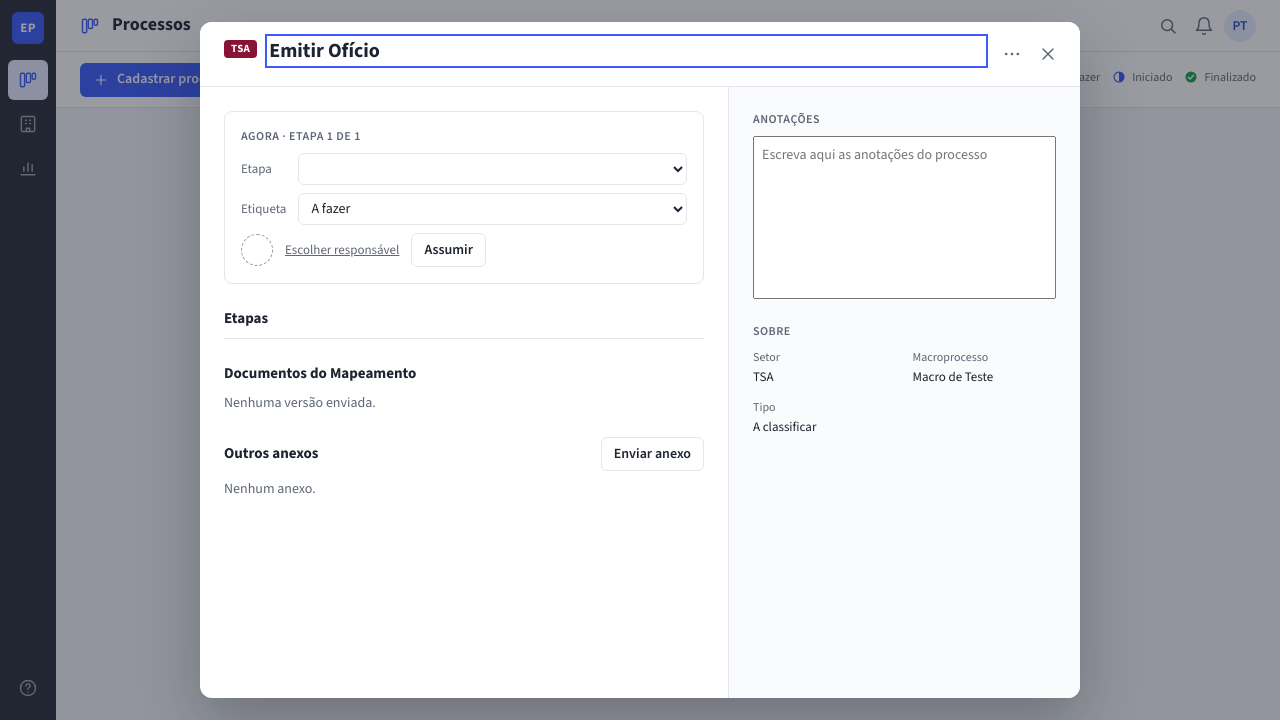
Scenario: sem eventos: "Nenhuma alteração registrada ainda."
The width and height of the screenshot is (1280, 720).
Click the button named "Ações do processo".
click(1012, 54)  # box [996,38,1028,70]
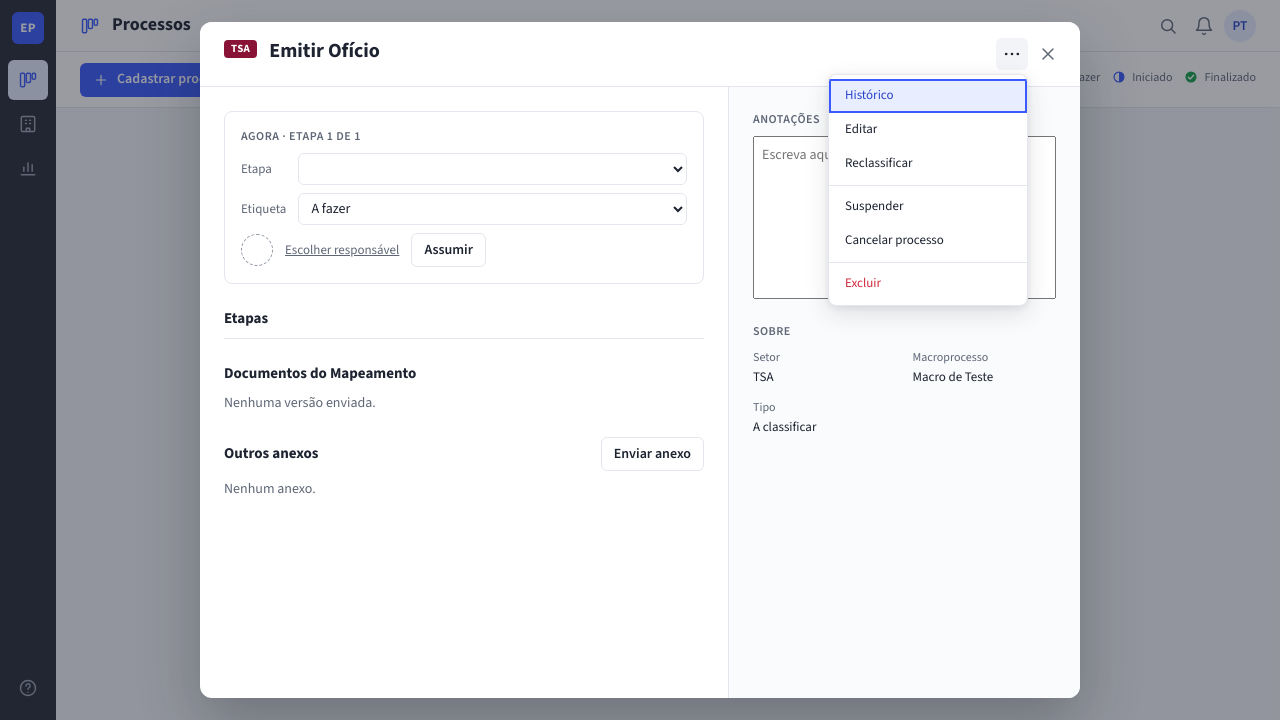
Click the menu item "Histórico".
click(928, 96)  # box [829,79,1027,113]
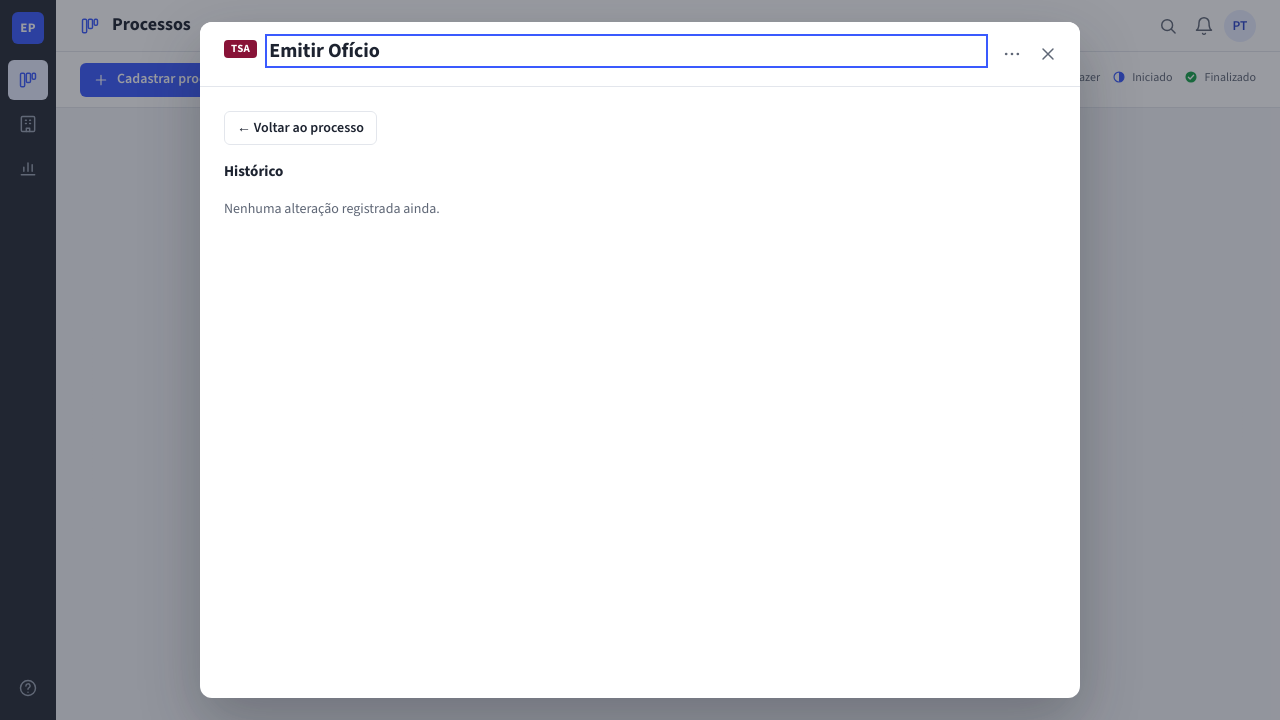
Expected: the text "Nenhuma alteração registrada ainda." is shown, [224,199,440,219]
